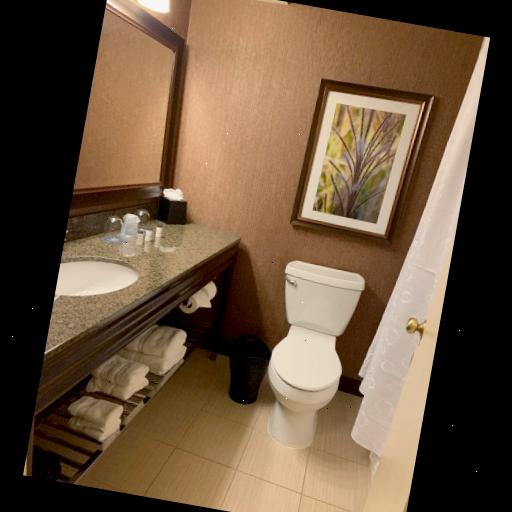clean mirror: (71, 7, 174, 191)
clean_floor: (76, 352, 363, 512)
clean_sink: (33, 196, 240, 419)
clean_toilet: (250, 255, 365, 455)
folded_towel: (66, 321, 190, 434)
